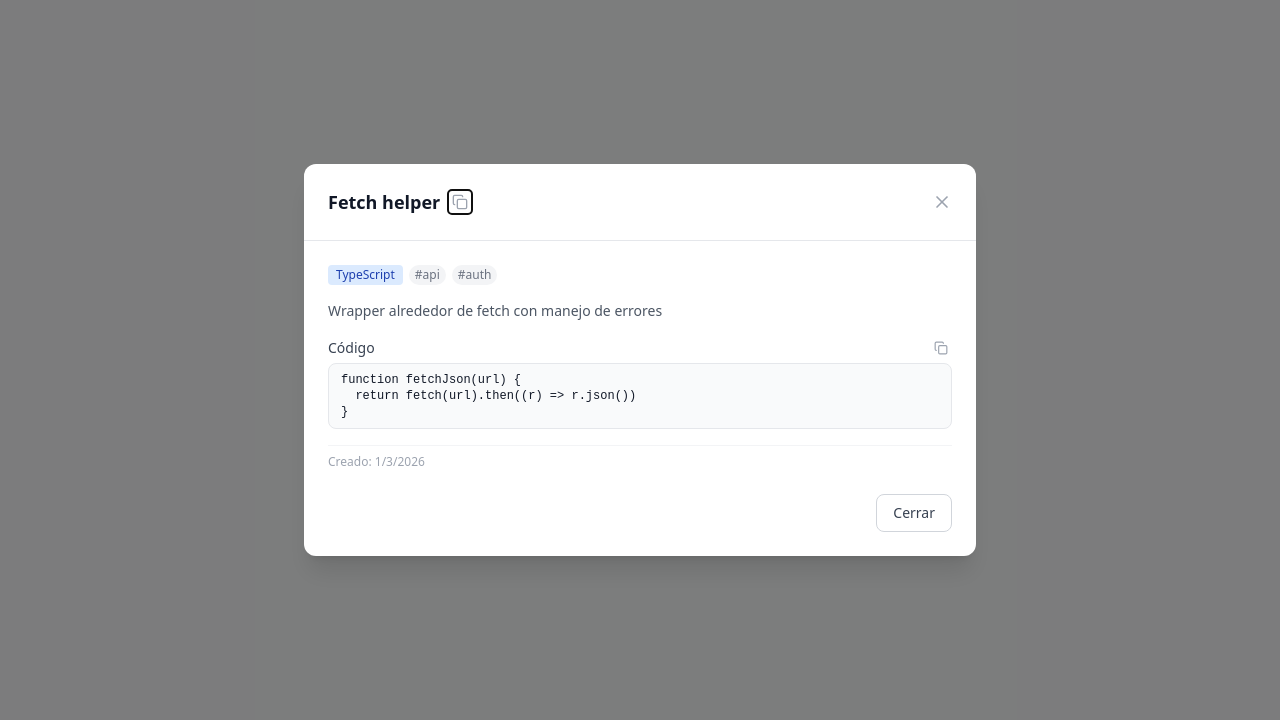
SnippetViewModal › copia el título de forma independiente del código
Click the button named "Copiar título": x=460, y=202 [448,190,472,214]
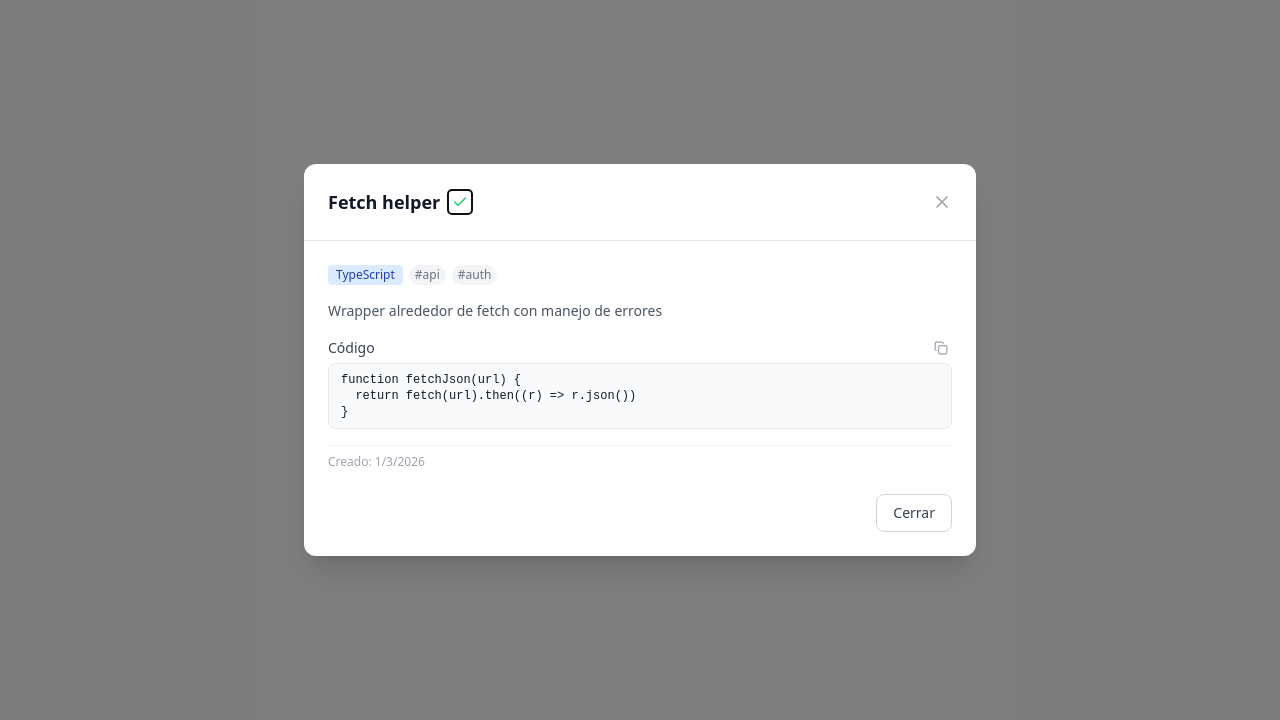
Expected: the icon next to "Fetch helper" is shown, [452,194,468,210]
